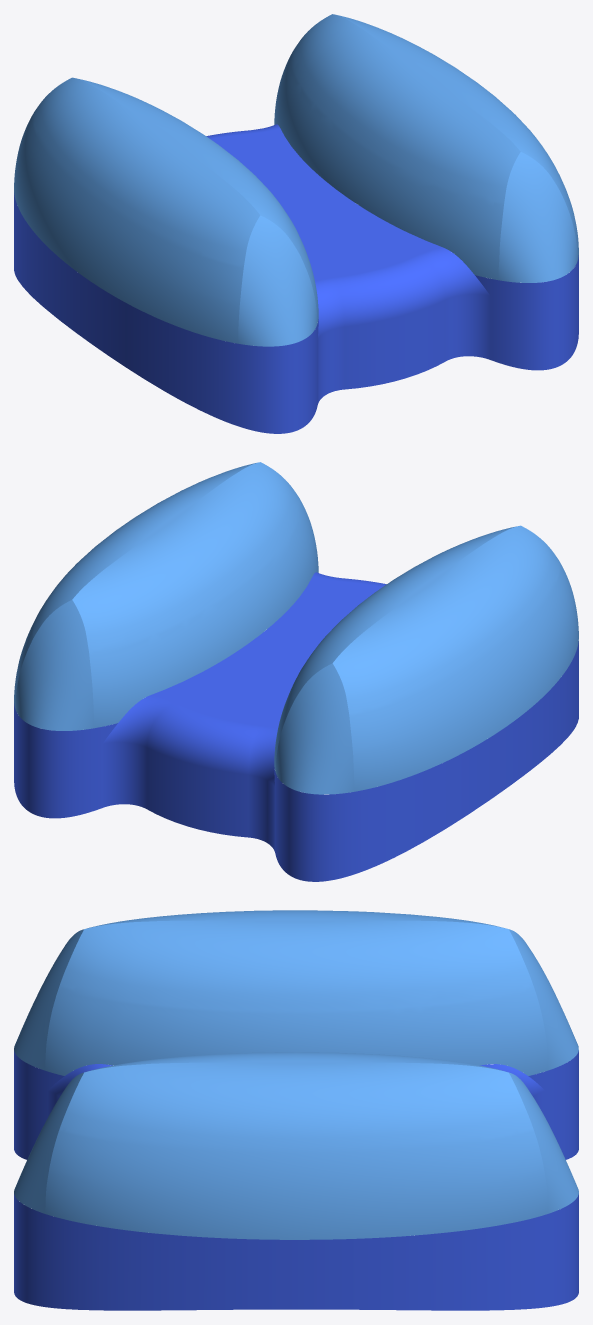
Rendered from hip thingy big blu.glb.
The picture shows the model from 3 angles, top to bottom: view 1: azimuth 30°, elevation 25°; view 2: azimuth 150°, elevation 25°; view 3: azimuth 270°, elevation 25°; orthographic projection. The views are drawn at different scales.
Bounding box in the file's own units: 0.0787 × 0.0351 × 0.0787.
